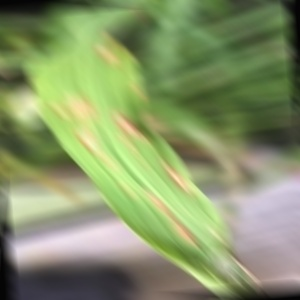Brown_Spot: (156, 150, 195, 193), (108, 106, 153, 143), (165, 214, 211, 249), (136, 191, 185, 221), (49, 95, 97, 118), (76, 124, 105, 154), (93, 26, 121, 52), (95, 39, 120, 66), (98, 148, 122, 175), (116, 43, 140, 66), (128, 80, 152, 102), (130, 151, 152, 171), (113, 135, 136, 154), (120, 180, 142, 198), (126, 5, 146, 22)
